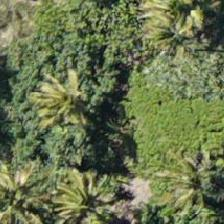coconut_tree: (5, 45, 95, 135), (32, 153, 122, 223), (0, 144, 58, 223)
